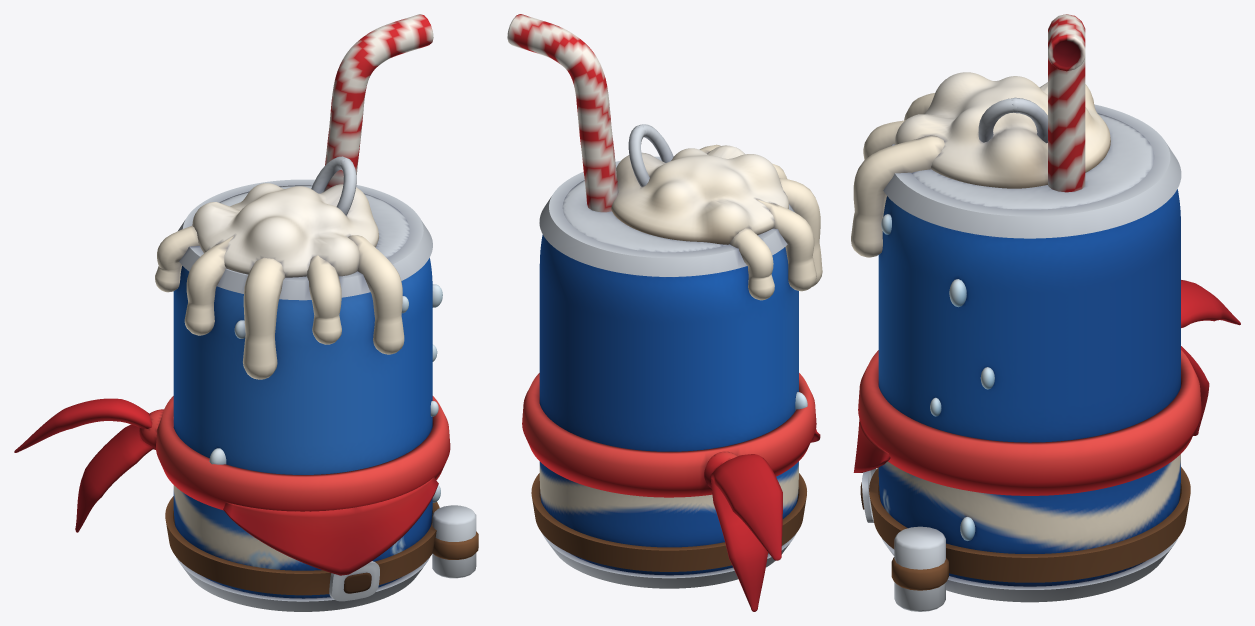
File: soda.glb
The picture shows the model from 3 angles, left to right: view 1: azimuth 30°, elevation 25°; view 2: azimuth 150°, elevation 25°; view 3: azimuth 270°, elevation 25°; orthographic projection. The views are drawn at different scales.
Parts seen in each view (by area): view 1: body; view 2: body; view 3: body.
Boxes of the visible parts, left/top/right/bottom form: body: left=14, top=14, right=478, bottom=611; body: left=507, top=14, right=822, bottom=611; body: left=851, top=14, right=1240, bottom=611.
Bounding box in the file's own units: 124 × 175 × 106.
